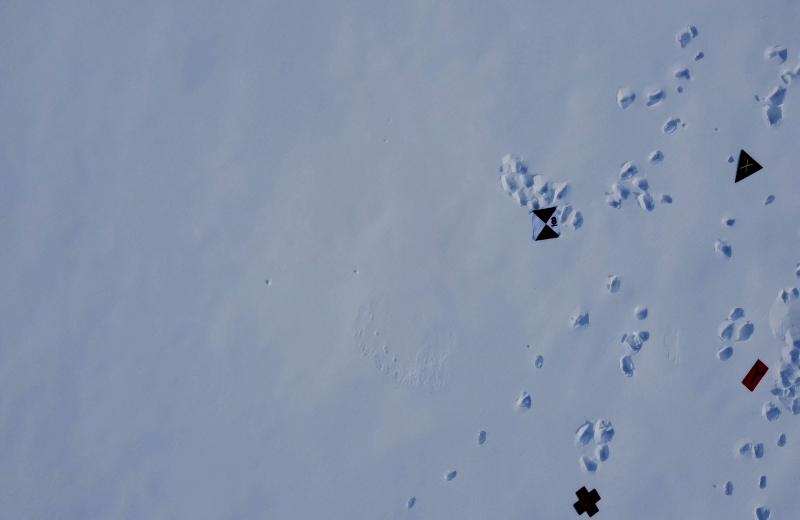Cross: (572, 484, 602, 520)
Rectangle: (740, 354, 770, 394)
Triangle: (732, 146, 764, 186)
